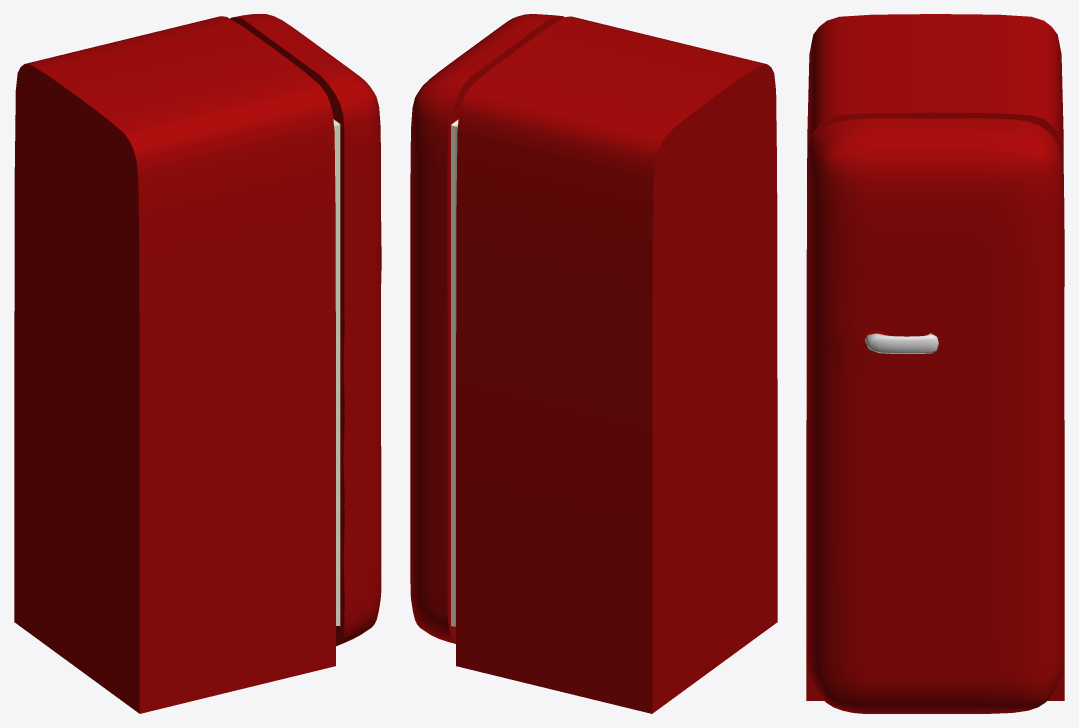
File: midPolyFridge.fbx
3 views of the same model, side by side, from view 1: azimuth 30°, elevation 25°; view 2: azimuth 150°, elevation 25°; view 3: azimuth 270°, elevation 25° (orthographic). The views are drawn at different scales.
Parts seen in each view (by area): view 1: Fridge, Door, Door joint; view 2: Fridge, Door, Door joint; view 3: Door, Fridge.
Part boxes in pixels (x1,y1,x2,y2): Fridge: (14, 16, 335, 713); Door: (230, 14, 381, 646); Door joint: (333, 119, 340, 625); Fridge: (456, 16, 777, 713); Door: (410, 14, 564, 643); Door joint: (451, 119, 458, 626); Door: (806, 118, 1064, 713); Fridge: (806, 14, 1064, 700).
Size of the model in its own units: 75.91 by 151 by 60.
